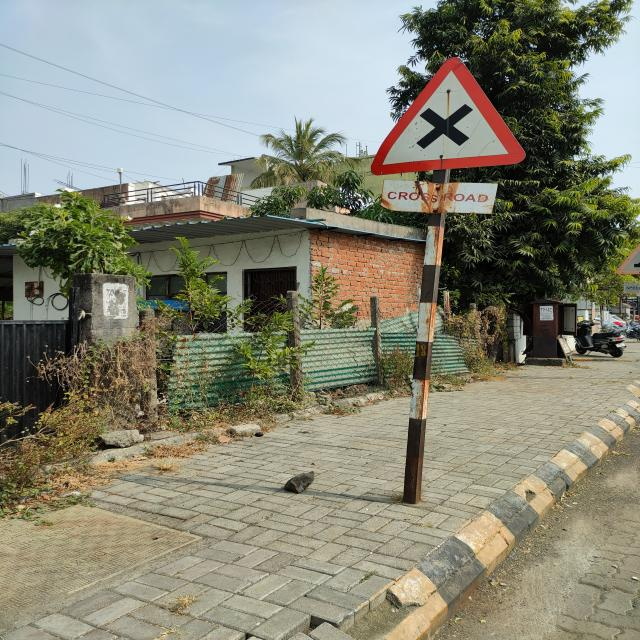CROSS_ROAD: (366, 54, 528, 175)
